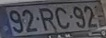2: (21, 8, 38, 33), (83, 5, 98, 28)
9: (8, 9, 23, 34), (72, 5, 86, 28)
C: (54, 6, 71, 30)
R: (37, 7, 57, 31)
